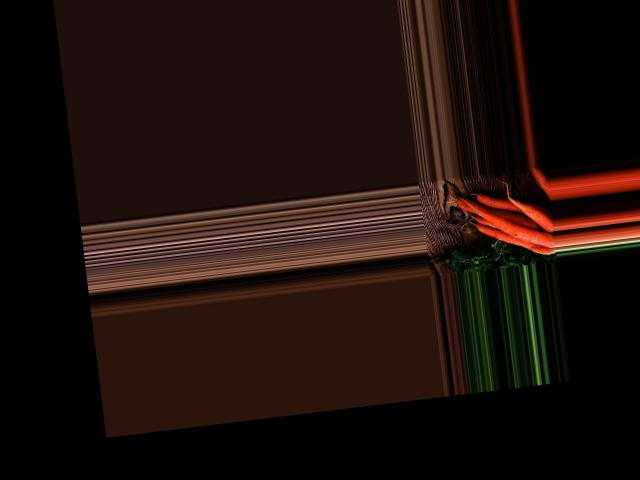carrot: (509, 193, 551, 234)
